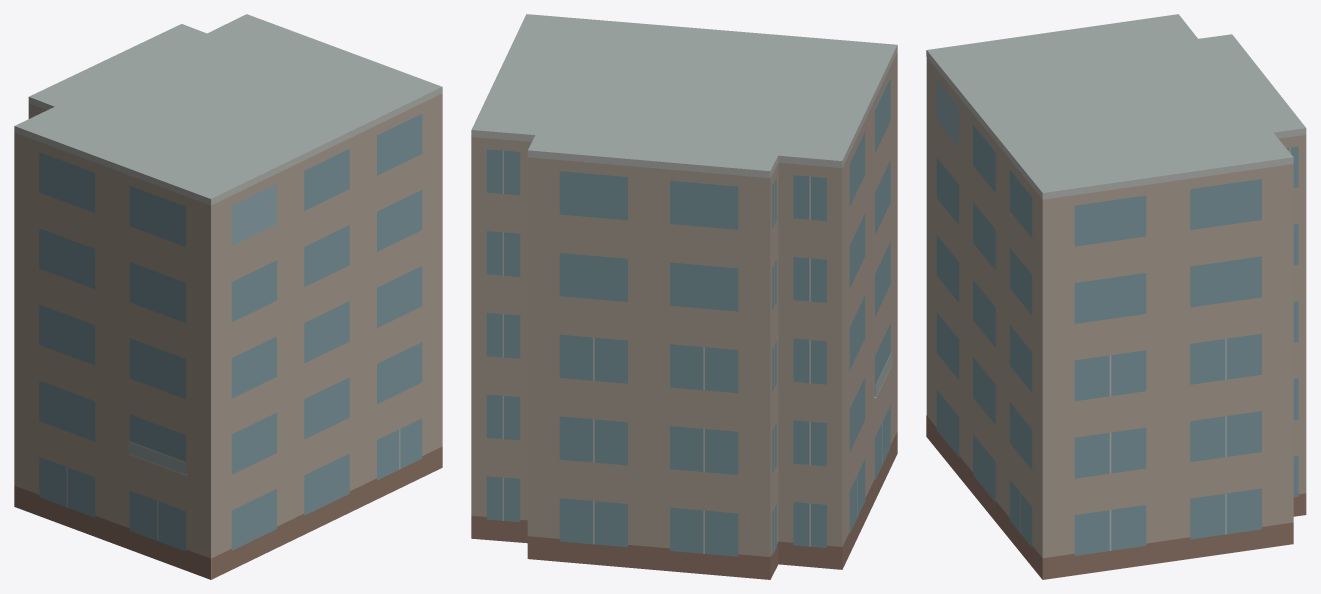
The model's file is survey-upis-32699244.glb.
3 renders of one model, left to right at view 1: azimuth 30°, elevation 25°; view 2: azimuth 150°, elevation 25°; view 3: azimuth 270°, elevation 25°, orthographic. The views are drawn at different scales.
Visible parts, largest first — view 1: survey-upis-32699244.tmp; view 2: survey-upis-32699244.tmp; view 3: survey-upis-32699244.tmp.
Part boxes in pixels (left/top/right/bottom): survey-upis-32699244.tmp: left=14, top=14, right=442, bottom=579; survey-upis-32699244.tmp: left=471, top=14, right=897, bottom=579; survey-upis-32699244.tmp: left=926, top=14, right=1306, bottom=579.
Bounding box in the file's own units: 14.21 × 14.3 × 12.74.
